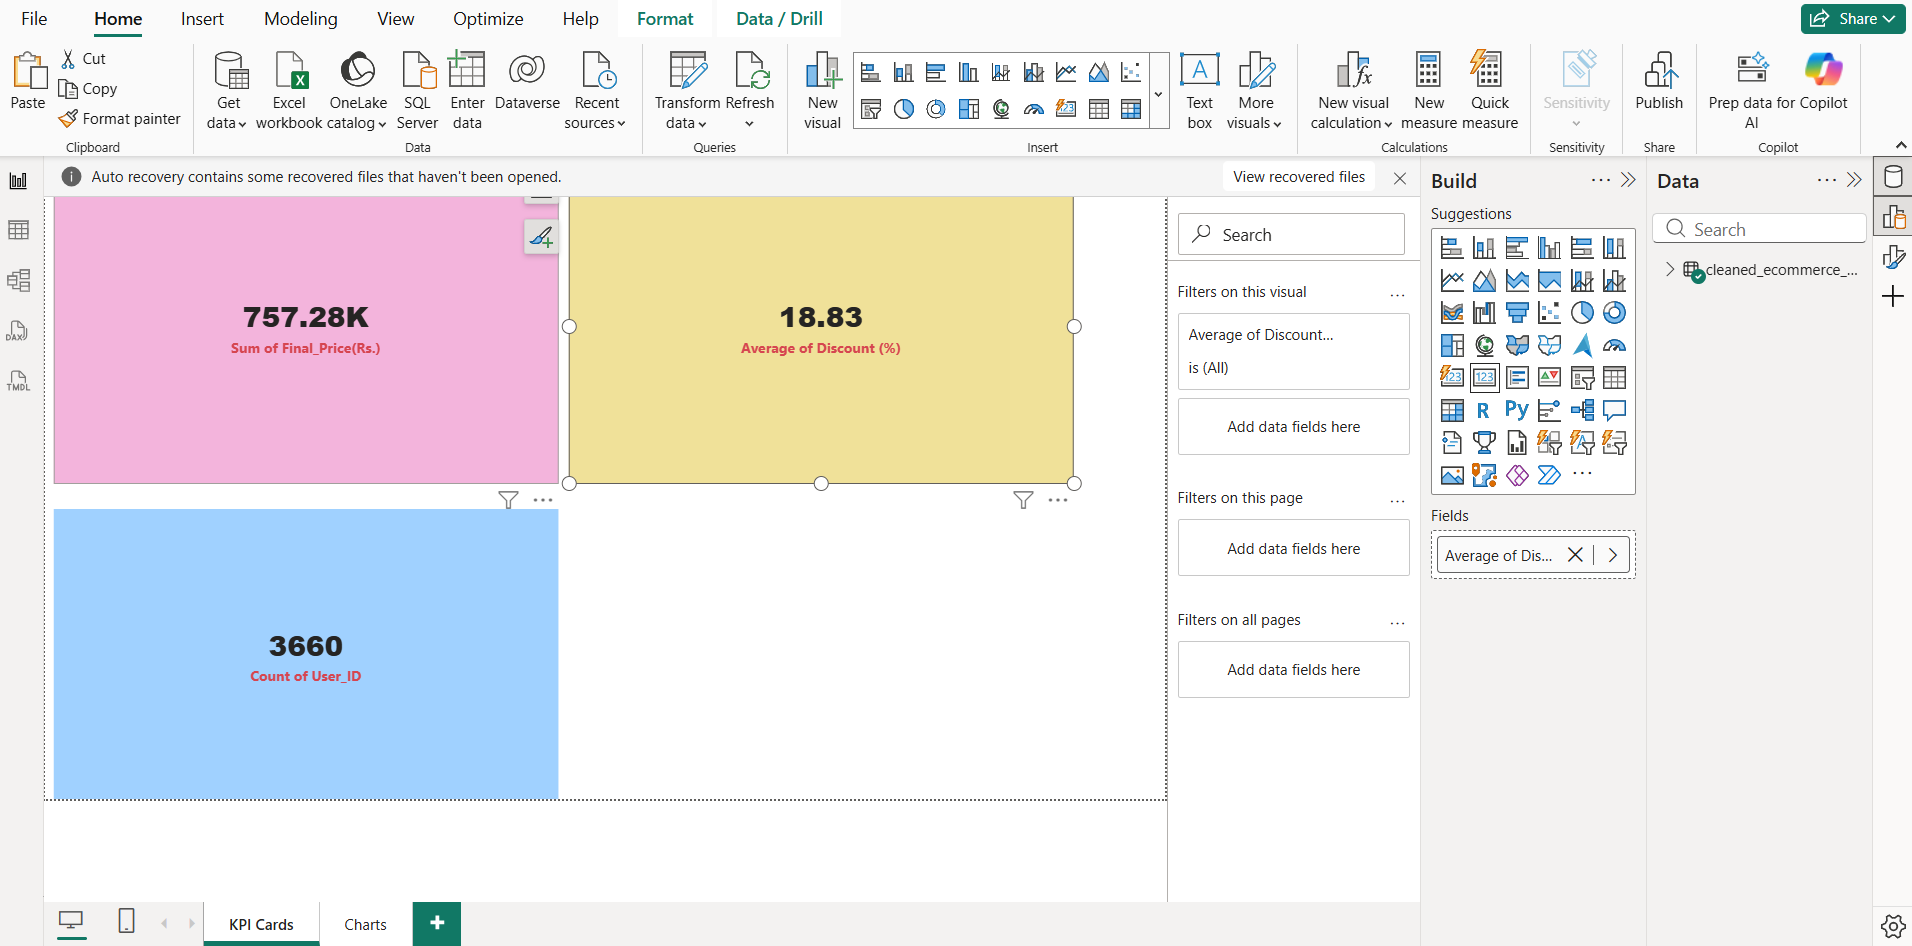

What the dashboard file says about the page in this screenshot:
{"tool":"powerbi","page":{"name":"KPI Cards","canvas":[1280,720],"ordinal":0},"visuals":[{"type":"card","fields":{"Values":["Sum(cleaned_ecommerce_data.Final_Price(Rs.))"]},"box":[10.7,0,576.7,359.5],"z":0},{"type":"card","fields":{"Values":["Count(cleaned_ecommerce_data.User_ID)"]},"box":[10.7,388,576.7,333],"z":1000},{"type":"card","fields":{"Values":["Avg(cleaned_ecommerce_data.Discount (%))"]},"box":[598,0,577,360],"z":2000}]}

Visuals, with their boxes on the page's 1280x720 design canvas (x1, y1, x2, y2). These are canvas units, not pixel positions in the 1912x946 screenshot, which may show the page scaled, cropped or inside an application window:
card - Sum(cleaned_ecommerce_data.Final_Price(Rs.)): [x1=11, y1=0, x2=587, y2=360]
card - Count(cleaned_ecommerce_data.User_ID): [x1=11, y1=388, x2=587, y2=721]
card - Avg(cleaned_ecommerce_data.Discount (%)): [x1=598, y1=0, x2=1175, y2=360]
